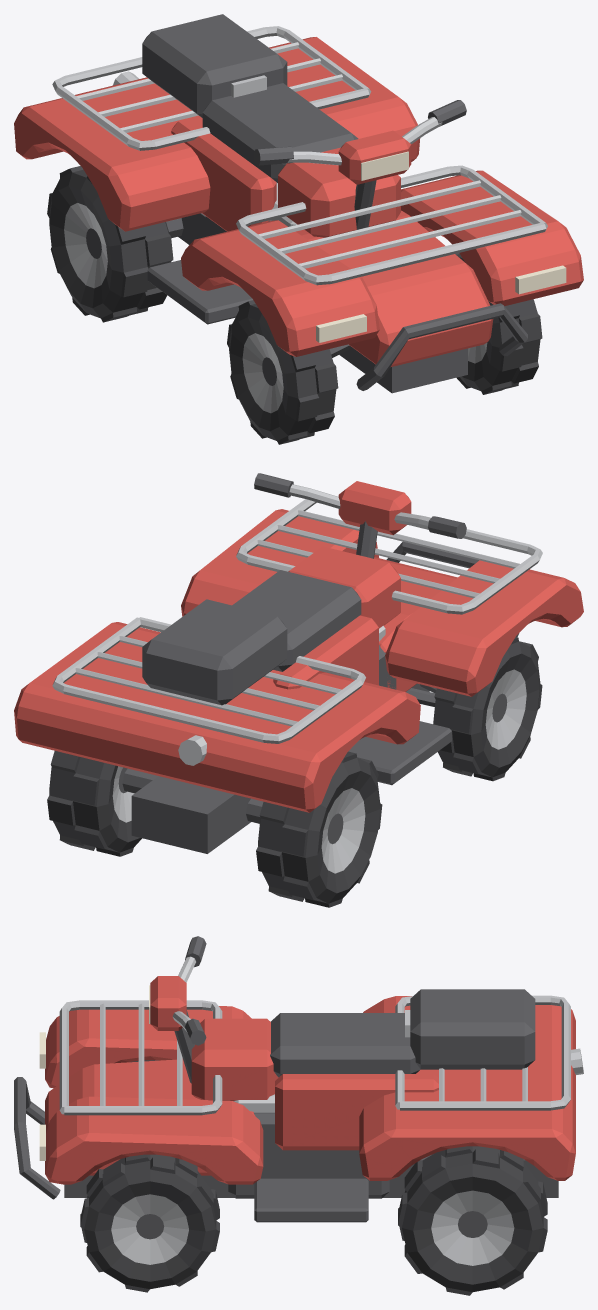
The model's file is ATV.fbx.
3 views of the same model, one above another, from view 1: azimuth 30°, elevation 25°; view 2: azimuth 150°, elevation 25°; view 3: azimuth 270°, elevation 25° (orthographic). The views are drawn at different scales.
Visible parts, largest first — view 1: Body, Wheel_3, Wheel_1, Wheel_0; view 2: Body, Wheel_3, Wheel_1, Wheel_2; view 3: Body, Wheel_2, Wheel_0.
Part boxes in pixels (x1,y1,x2,y2): Body: (14,14,583,393); Wheel_3: (47,166,173,322); Wheel_1: (227,300,338,444); Wheel_0: (455,253,542,394); Body: (14,473,583,853); Wheel_3: (256,751,382,907); Wheel_1: (433,637,542,781); Wheel_2: (47,751,141,856); Body: (14,936,583,1222); Wheel_2: (398,1146,547,1295); Wheel_0: (80,1154,219,1292).
Size of the model in its own units: 1.26 by 1.07 by 2.19.
